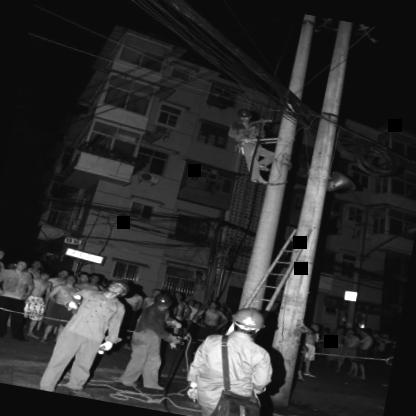head: (86, 270, 104, 286), (10, 258, 28, 272), (61, 272, 78, 286), (36, 268, 52, 280), (206, 298, 220, 311), (54, 266, 68, 278), (76, 272, 90, 284), (168, 290, 184, 300), (29, 258, 42, 270), (148, 286, 161, 298), (308, 321, 322, 332), (0, 248, 6, 262)
helmet: (224, 303, 268, 344), (103, 275, 131, 301), (150, 292, 172, 317), (234, 108, 254, 124)
